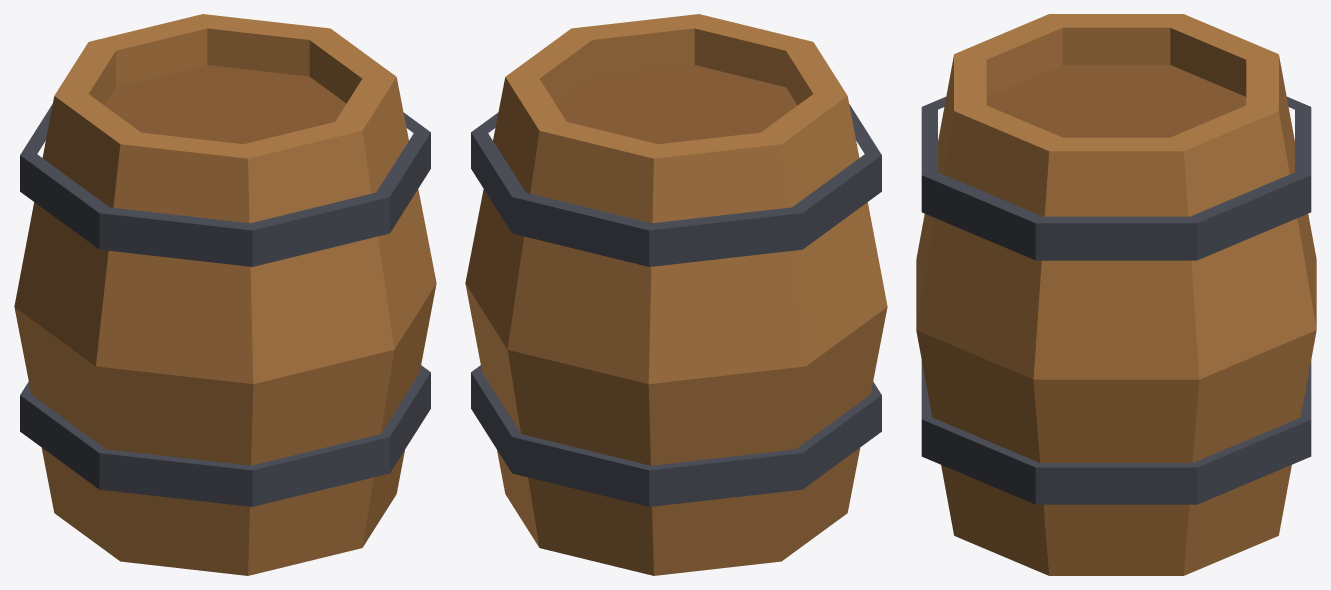
Rendered from prop-barrel.glb.
3 views of the same model, side by side, from view 1: azimuth 30°, elevation 25°; view 2: azimuth 150°, elevation 25°; view 3: azimuth 270°, elevation 25° (orthographic).
Visible parts, largest first — view 1: Barrel; view 2: Barrel; view 3: Barrel.
Boxes of the visible parts, left/top/right/bottom form: Barrel: left=14, top=14, right=436, bottom=575; Barrel: left=465, top=14, right=887, bottom=575; Barrel: left=916, top=14, right=1316, bottom=575.
Size of the model in its own units: 0.6837 by 0.8 by 0.6837.
